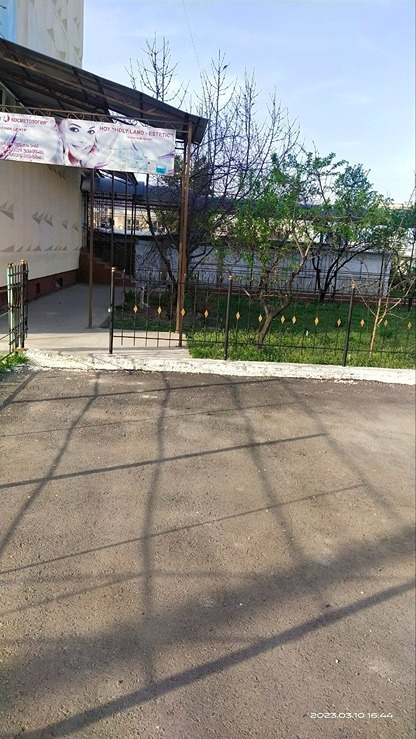tree: (224, 161, 319, 350), (319, 172, 393, 321)
